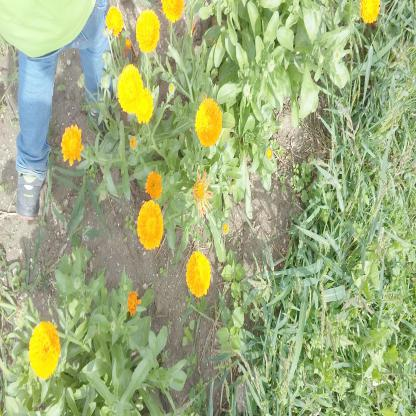marigold: (30, 323, 59, 377), (196, 98, 220, 146), (117, 67, 142, 113), (140, 200, 162, 249), (187, 253, 209, 296), (137, 11, 160, 52), (62, 128, 83, 163), (136, 89, 153, 124), (146, 172, 162, 200), (108, 5, 123, 34)
